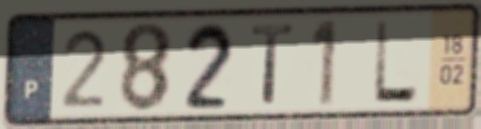1: (308, 16, 341, 110)
2: (178, 16, 241, 116), (59, 27, 110, 111)
8: (116, 19, 175, 115)
L: (370, 17, 421, 105)
T: (248, 21, 297, 108)
